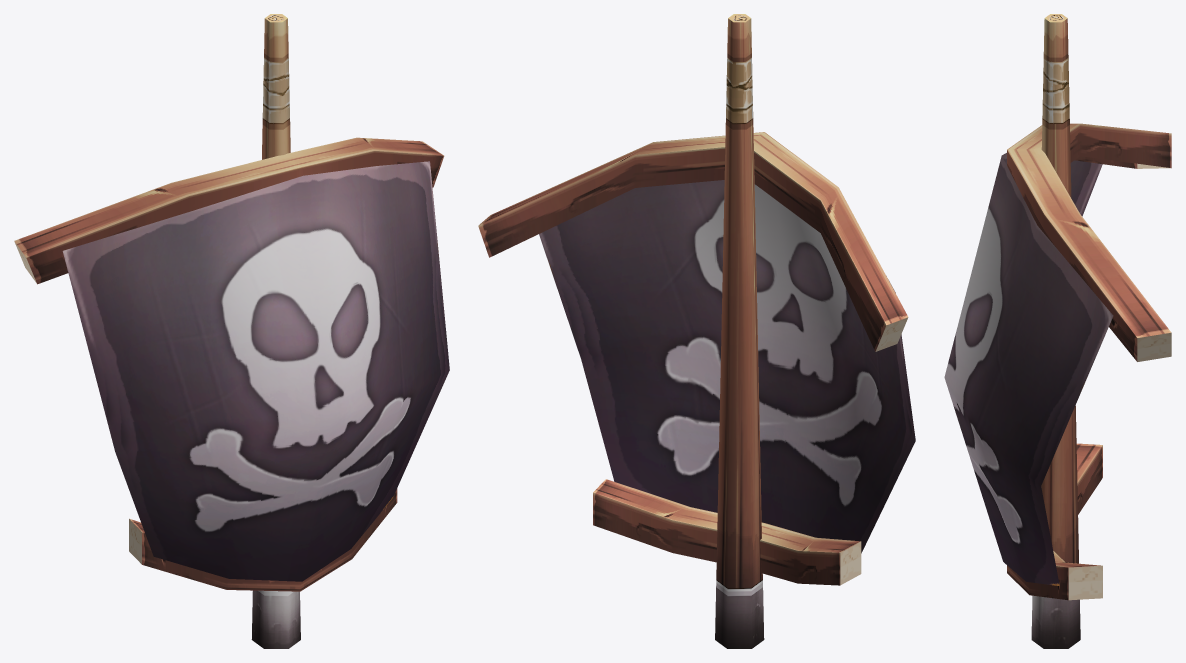
File: medium_pirate_sail.glb
3 views of the same model, side by side, from view 1: azimuth 30°, elevation 25°; view 2: azimuth 150°, elevation 25°; view 3: azimuth 270°, elevation 25° (orthographic).
Visible parts, largest first — view 1: pirate_boat_04_part; view 2: pirate_boat_04_part; view 3: pirate_boat_04_part.
Boxes of the visible parts, x1,y1,x2,y2 form: pirate_boat_04_part: [14, 14, 449, 648]; pirate_boat_04_part: [478, 14, 915, 648]; pirate_boat_04_part: [944, 14, 1171, 648].
Size of the model in its own units: 5.5 by 7.82 by 2.59.
Materials: 1 (1 with a texture image).
